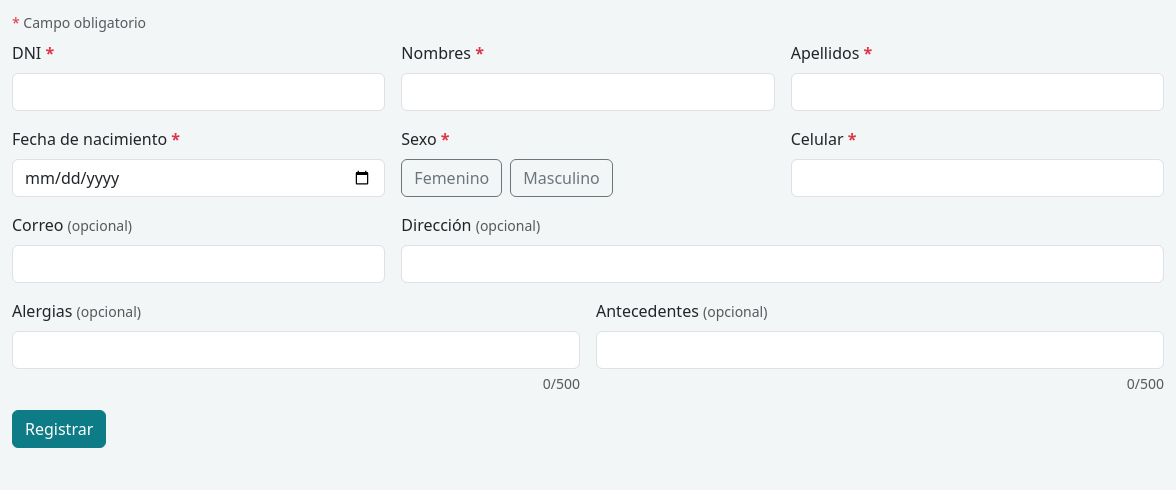
it: Campos numéricos y RUC › DNI (8) y celular (9) del paciente: solo dígitos
In the field labelled "DNI": [199, 92] box 12,73 -> 385,111, type "72.458.190-9"
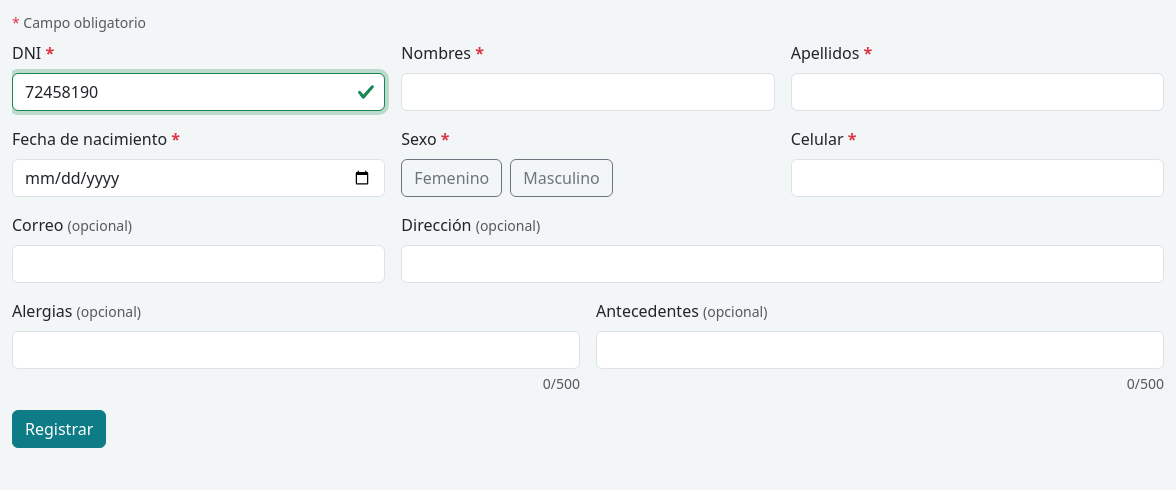
Result: the field labelled "DNI" holds "72458190" at 12,73 -> 385,111
In the field labelled "Celular": [977, 178] box 791,159 -> 1164,197, type "+51 949 123 456"
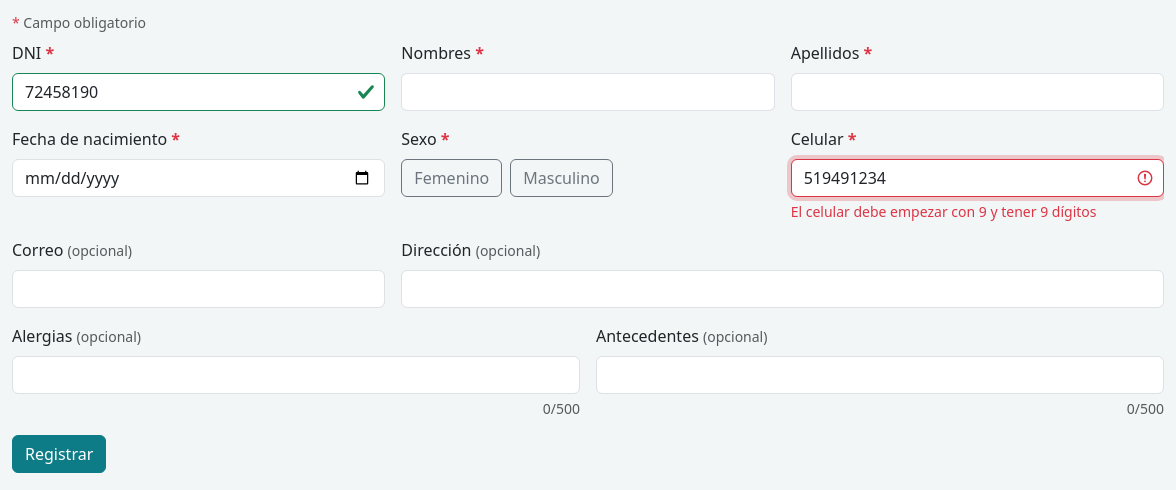
Result: the field labelled "Celular" holds "519491234" at 791,159 -> 1164,197
